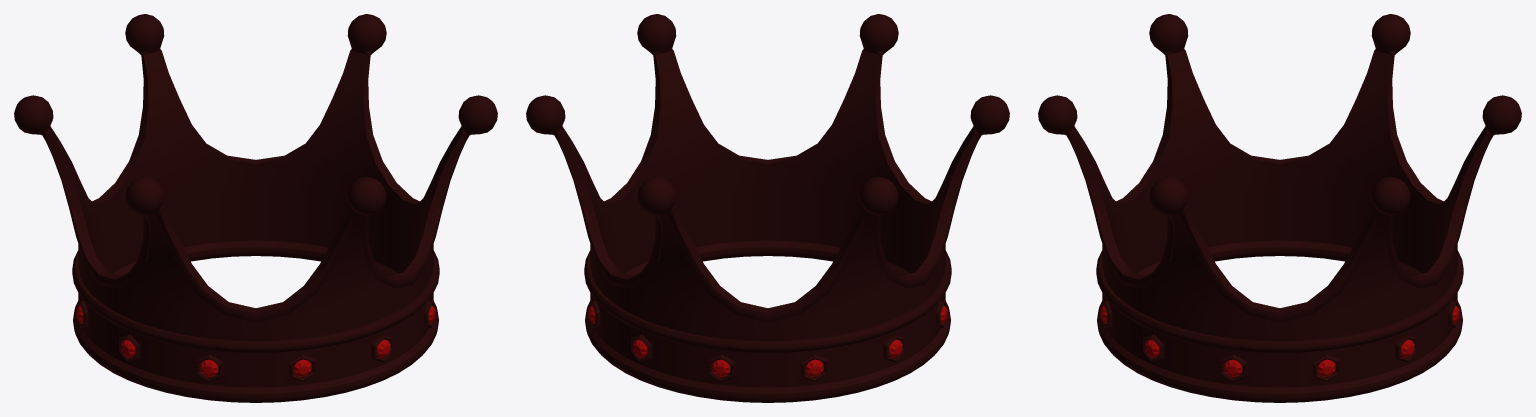
The model's file is crown.FBX.
3 views of the same model, side by side, from view 1: azimuth 30°, elevation 25°; view 2: azimuth 150°, elevation 25°; view 3: azimuth 270°, elevation 25° (orthographic).
Visible parts, largest first — view 1: crown; view 2: crown; view 3: crown.
Boxes of the visible parts, x1,y1,x2,y2 form: crown: [14, 14, 497, 402]; crown: [526, 14, 1009, 402]; crown: [1038, 14, 1521, 402].
Bounding box in the file's own units: 290 × 175 × 332.
